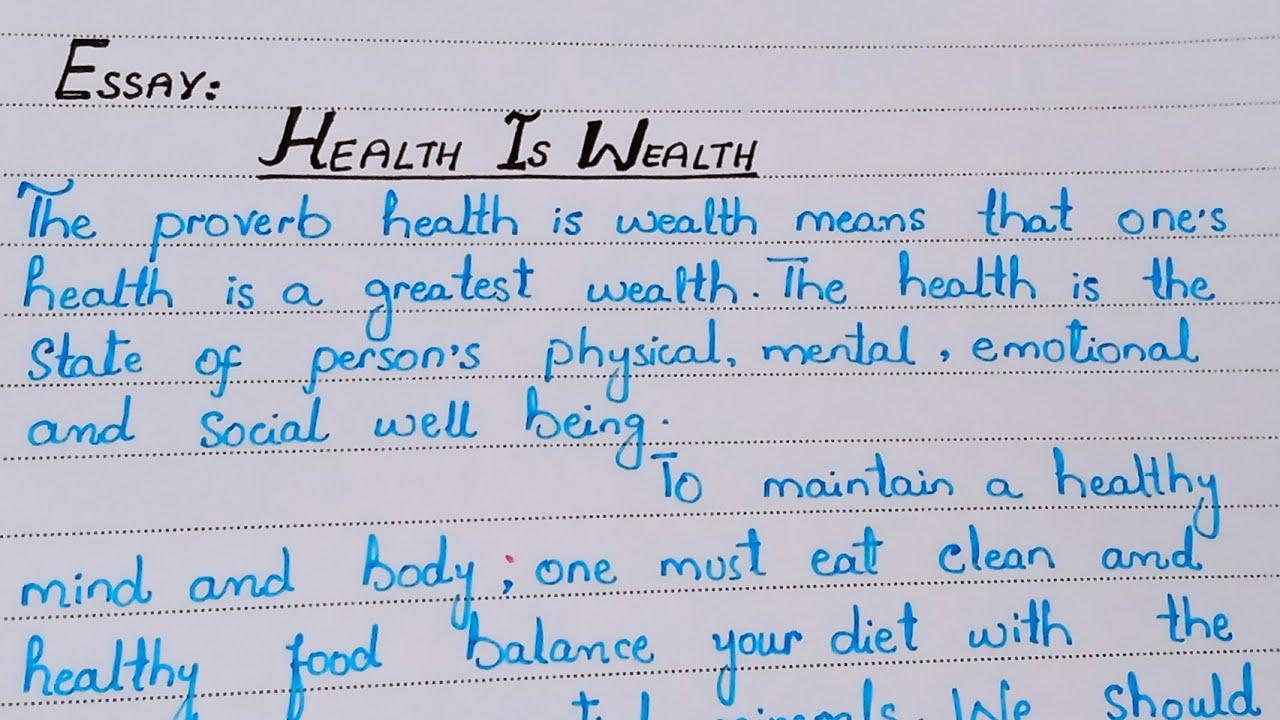text: (17, 589, 1238, 720), (15, 521, 1207, 635), (17, 246, 1219, 345), (14, 173, 1230, 267), (27, 312, 1203, 408), (23, 380, 675, 475), (649, 440, 1226, 542), (568, 658, 1266, 719), (253, 101, 762, 177), (50, 37, 225, 104)
